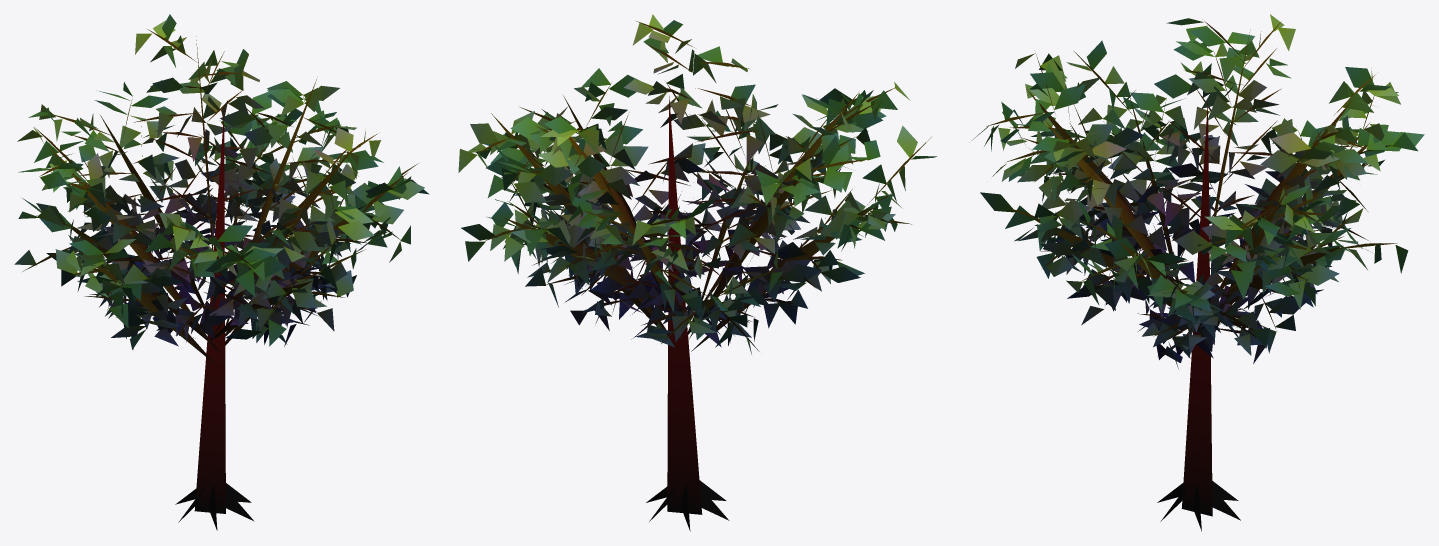
Rendered from Tree_Fresno_LOD1.fbx.
3 views of the same model, side by side, from view 1: azimuth 30°, elevation 25°; view 2: azimuth 150°, elevation 25°; view 3: azimuth 270°, elevation 25° (orthographic). The views are drawn at different scales.
Parts seen in each view (by area): view 1: Tree_Fresno_LOD1; view 2: Tree_Fresno_LOD1; view 3: Tree_Fresno_LOD1.
Boxes of the visible parts, x1,y1,x2,y2 form: Tree_Fresno_LOD1: [14, 14, 428, 530]; Tree_Fresno_LOD1: [458, 14, 937, 531]; Tree_Fresno_LOD1: [969, 14, 1424, 531].
Bounding box in the file's own units: 10.13 × 10.75 × 9.93.
